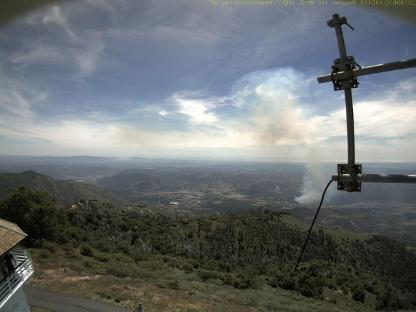smoke: (230, 66, 340, 208)
